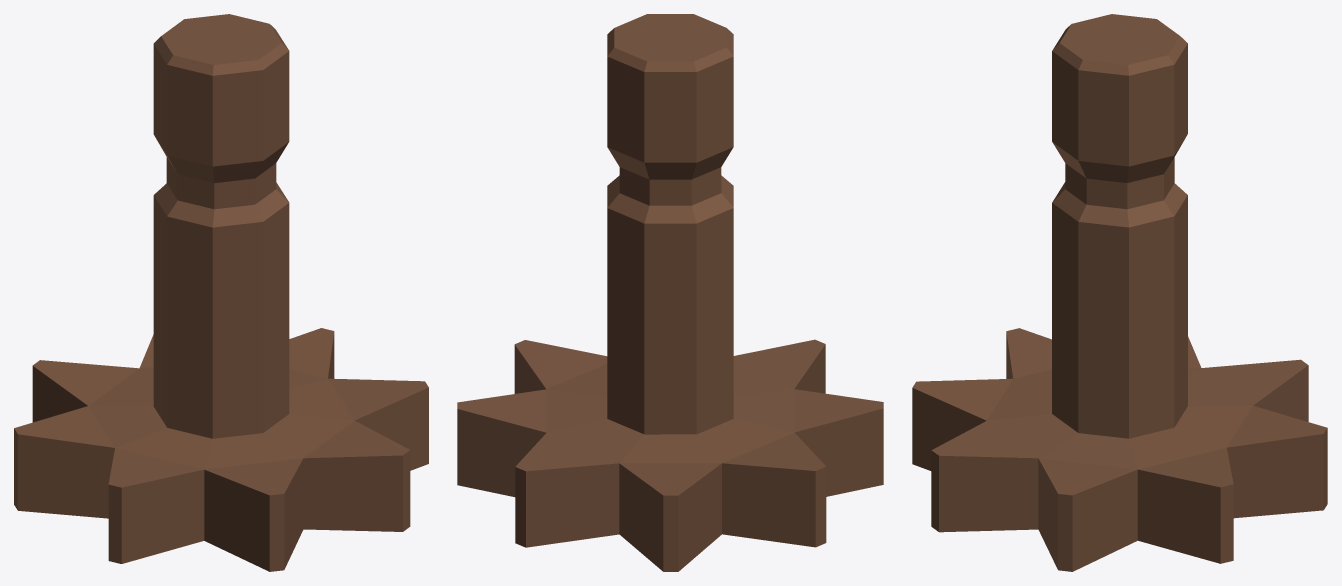
File: scrap_small10.dae
3 renders of one model, left to right at view 1: azimuth 30°, elevation 25°; view 2: azimuth 150°, elevation 25°; view 3: azimuth 270°, elevation 25°, orthographic.
Parts seen in each view (by area): view 1: Circle_005; view 2: Circle_005; view 3: Circle_005.
Boxes of the visible parts, x1,y1,x2,y2 form: Circle_005: [14, 14, 428, 571]; Circle_005: [457, 14, 883, 571]; Circle_005: [912, 14, 1327, 571].
Size of the model in its own units: 0.3808 by 0.3808 by 0.4599.
